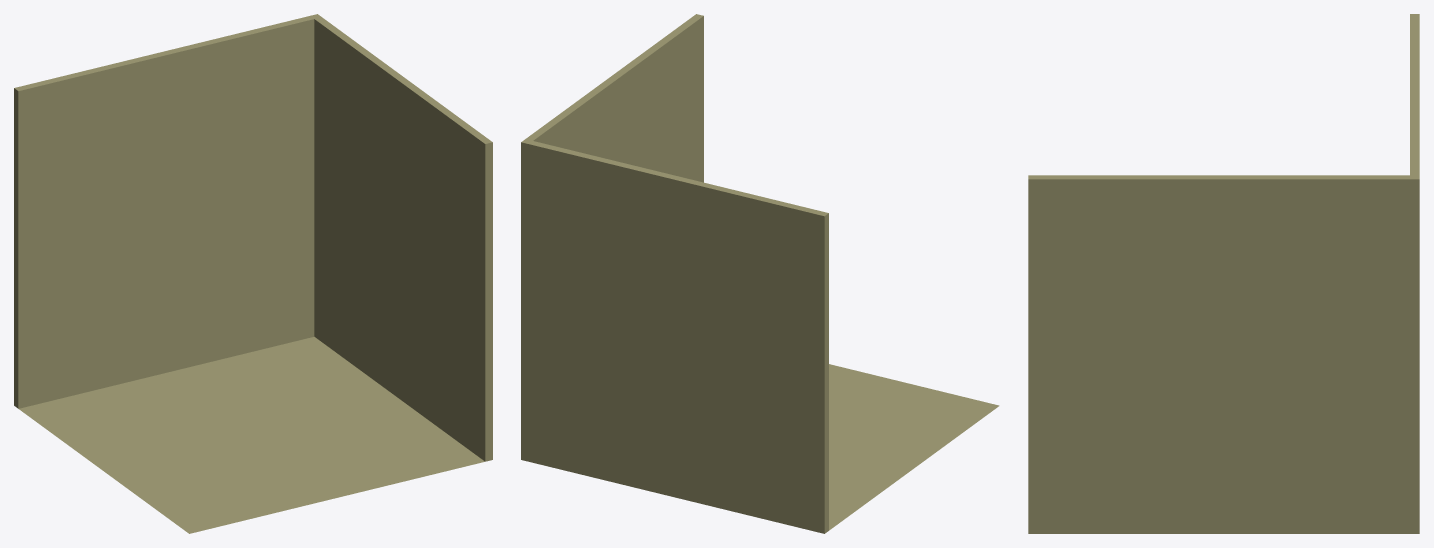
Rendered from HpolyFacCorner01.glb.
3 views of the same model, side by side, from view 1: azimuth 30°, elevation 25°; view 2: azimuth 150°, elevation 25°; view 3: azimuth 270°, elevation 25° (orthographic). The views are drawn at different scales.
Parts seen in each view (by area): view 1: HpolyFacCorner01-col; view 2: HpolyFacCorner01-col; view 3: HpolyFacCorner01-col.
Part boxes in pixels (x1=…): HpolyFacCorner01-col: x1=14, y1=14, x2=492, y2=533; HpolyFacCorner01-col: x1=521, y1=14, x2=999, y2=533; HpolyFacCorner01-col: x1=1028, y1=14, x2=1419, y2=533.
Bounding box in the file's own units: 4 × 4 × 4.
